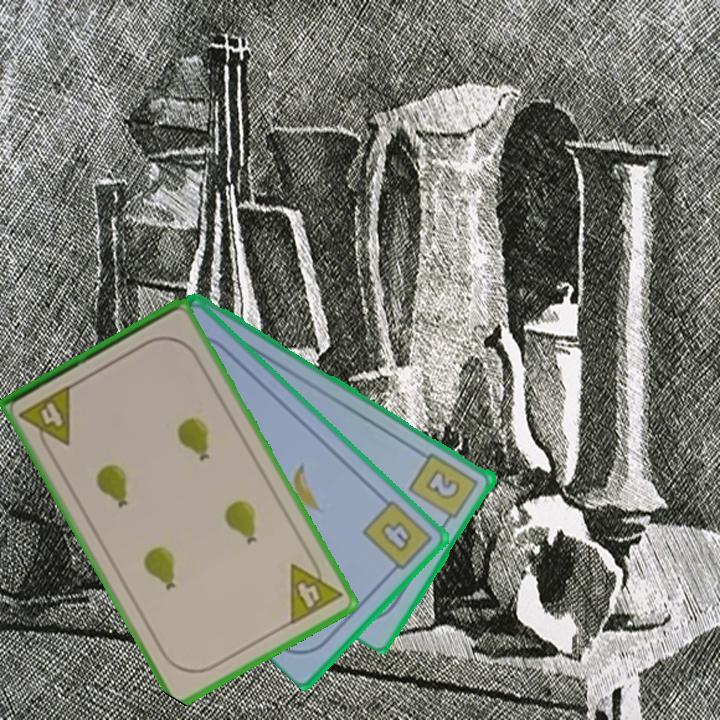2b: (406, 449, 482, 528)
4b: (359, 496, 436, 579)
4p: (286, 550, 346, 628), (16, 381, 75, 457)
